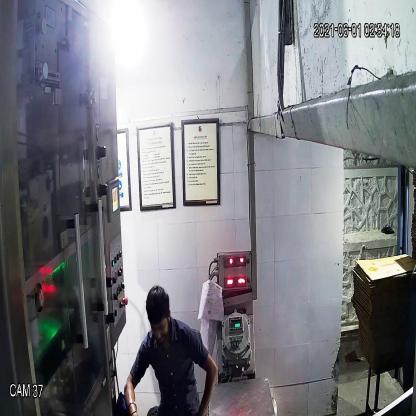no_goggles: (147, 318, 171, 337)
